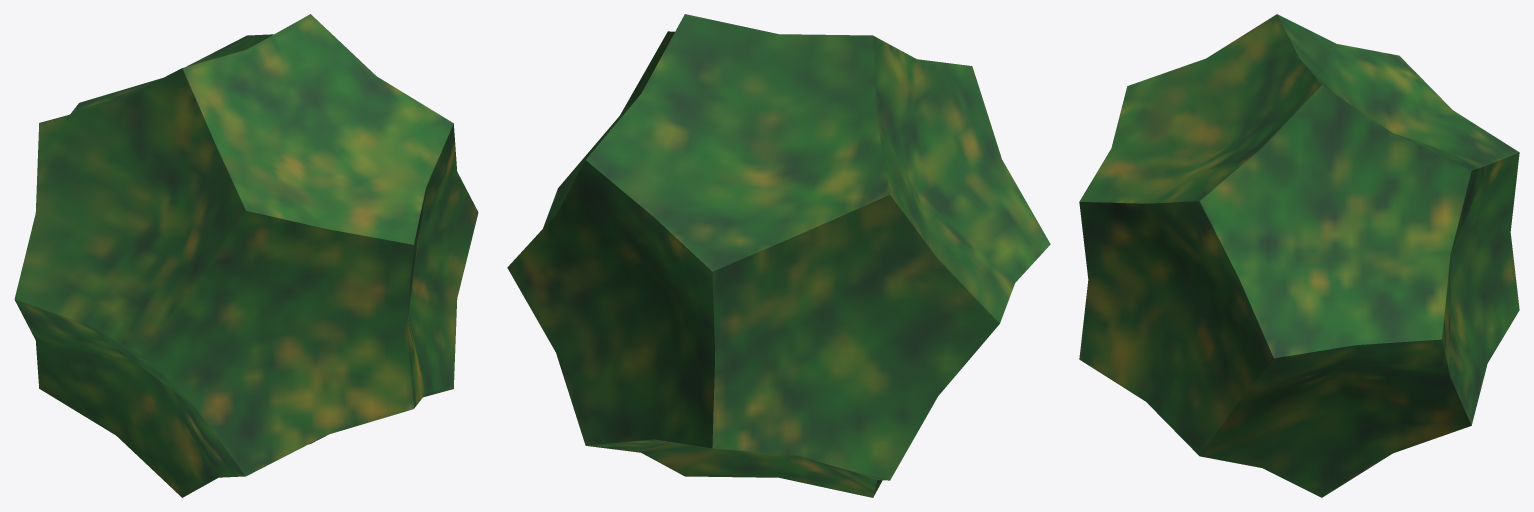
Rendered from tree_left_bush.FBX.
3 renders of one model, left to right at view 1: azimuth 30°, elevation 25°; view 2: azimuth 150°, elevation 25°; view 3: azimuth 270°, elevation 25°, orthographic. The views are drawn at different scales.
Parts seen in each view (by area): view 1: tree_left_bush; view 2: tree_left_bush; view 3: tree_left_bush.
Part boxes in pixels (x1,y1,x2,y2): tree_left_bush: [14, 14, 478, 497]; tree_left_bush: [507, 14, 1050, 497]; tree_left_bush: [1079, 14, 1519, 497].
Size of what is drawn, in the model's own units: 8.78 by 7.97 by 8.25.
